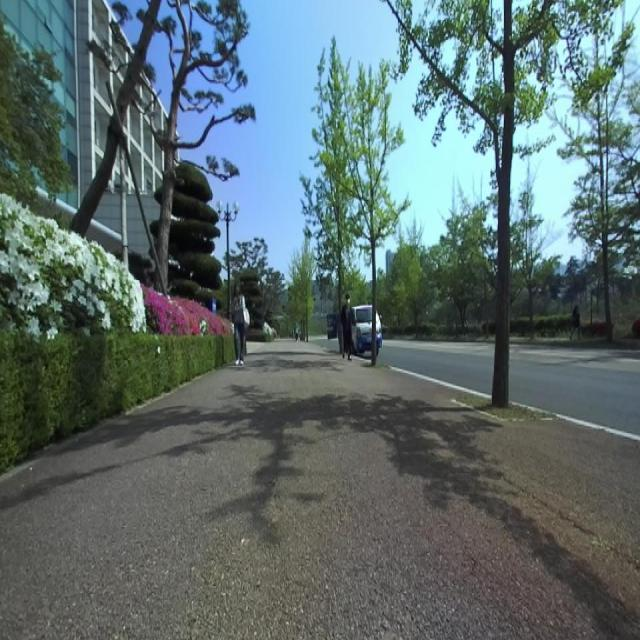sidewalk: (0, 342, 640, 639)
